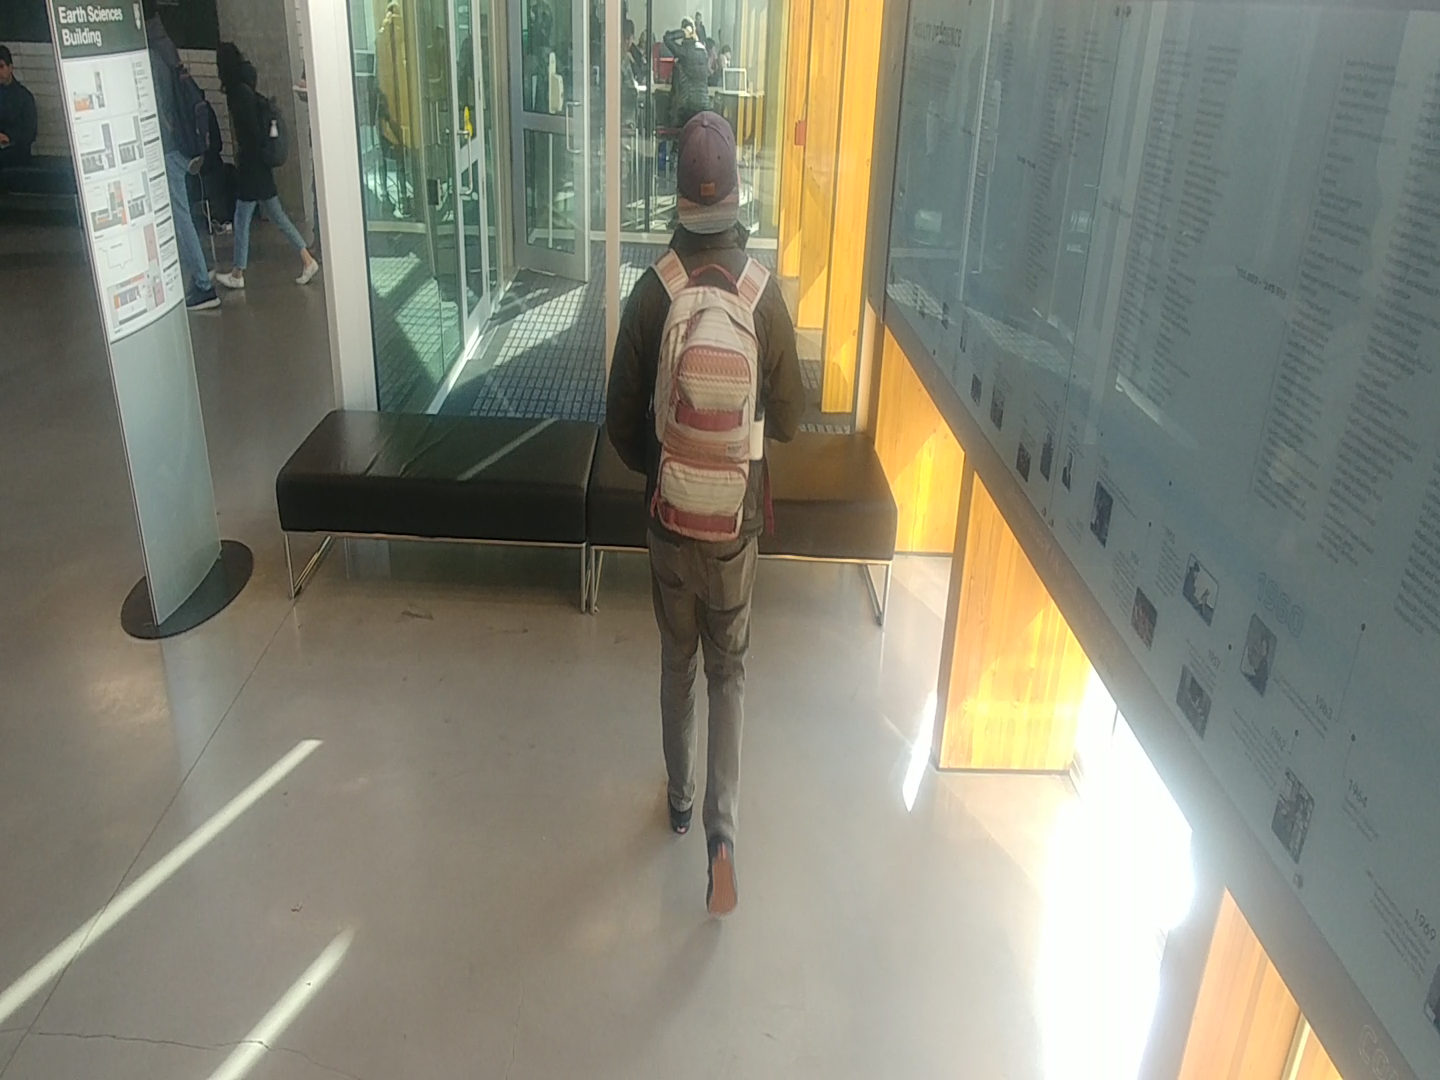face: (656, 100, 772, 257), (208, 32, 262, 89), (672, 16, 702, 50), (0, 42, 25, 81)
human: (597, 101, 819, 928), (134, 1, 227, 324), (212, 38, 325, 297), (657, 14, 720, 121), (0, 43, 43, 172)
